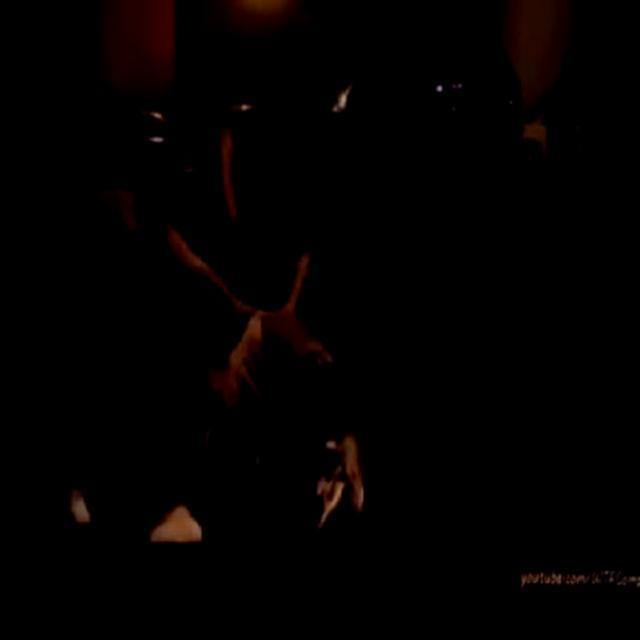fight: (52, 176, 368, 527), (206, 108, 374, 524)
